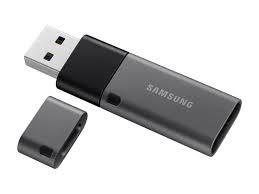USB Flash Drive: (24, 25, 241, 157)
